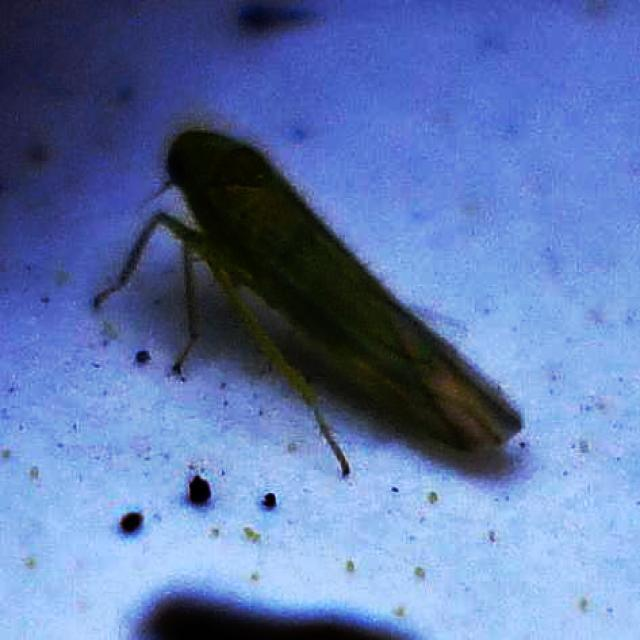green-leafhopper: (90, 121, 530, 476)
